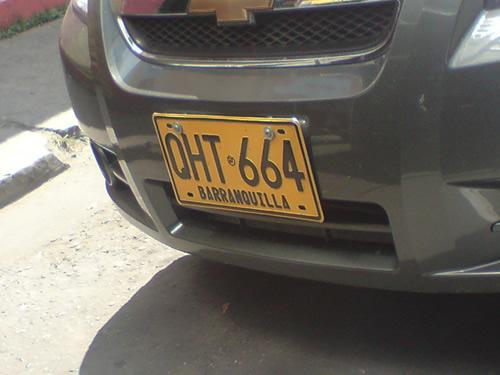placas: (150, 110, 326, 224)
